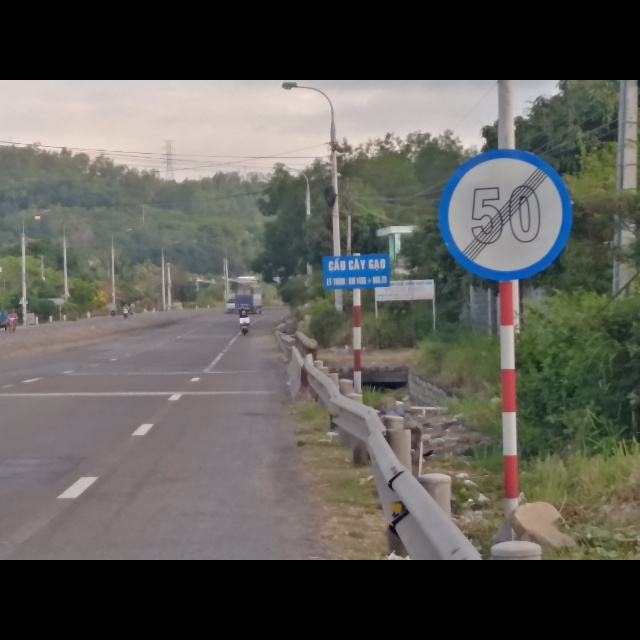Hết hạn chế tốc độ tối đa 50km/h: (439, 146, 576, 281)
